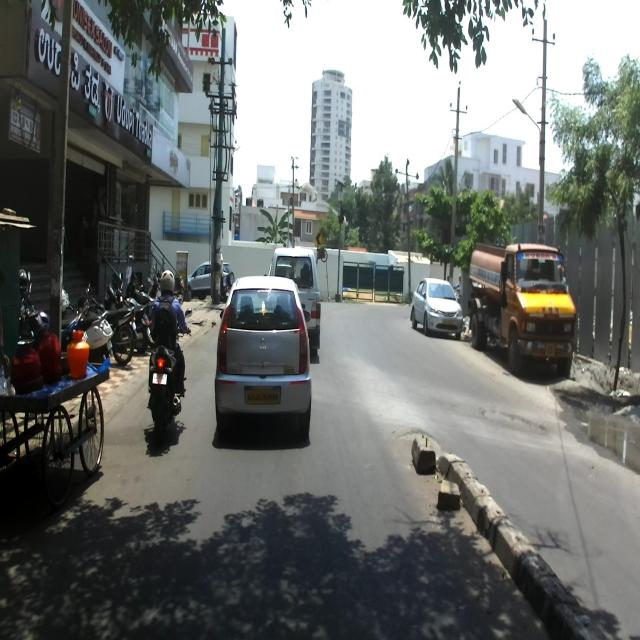car: (214, 273, 312, 442), (268, 246, 321, 358), (410, 277, 462, 339), (187, 260, 234, 299)
motorcycle: (144, 305, 195, 449), (16, 269, 87, 362)
scooter: (59, 284, 113, 374), (104, 272, 154, 352)
truck: (467, 240, 577, 376)
